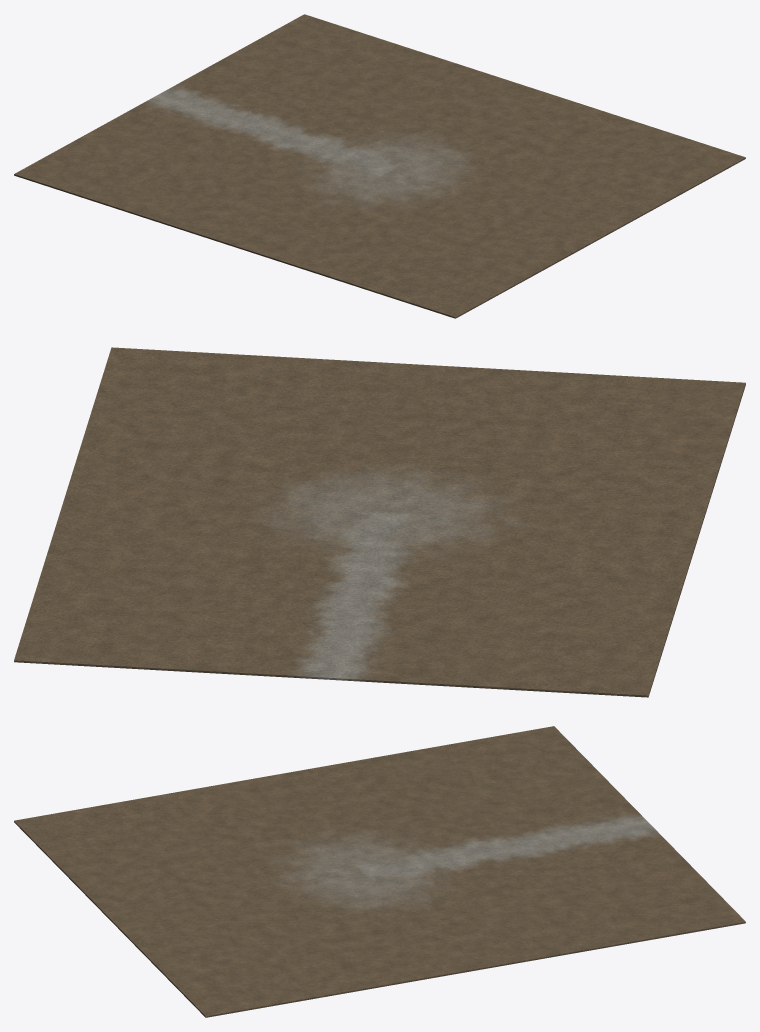
3 views of the same model, one above another, from view 1: azimuth 30°, elevation 25°; view 2: azimuth 150°, elevation 25°; view 3: azimuth 270°, elevation 25° (orthographic). The views are drawn at different scales.
Visible parts, largest first — view 1: Ground_0_0_0_110, Ground_0_-1_0_110, Ground_0_0_0_100, Ground_0_-1_0_100, Ground_-1_0_0_110_010, Ground_0_0_0_010_110, Ground_-1_0_0_010, Ground_-1_-1_0_010, Ground_-1_-1_0_000, Ground_-1_0_0_000, Ground_-1_-1_0_100_010, Ground_-1_-1_0_110_010 (+28 smaller); view 2: Ground_0_-1_0_000_100, Ground_-1_-1_0_100_000, Ground_0_-1_0_100, Ground_-1_-1_0_000, Ground_0_-1_0_110, Ground_0_0_0_110, Ground_0_0_0_100, Ground_0_-1_0_010_100, Ground_-1_0_0_110_000, Ground_-1_0_0_100_010, Ground_0_-1_0_000_110, Ground_-1_0_0_110_010 (+28 smaller); view 3: Ground_-1_0_0_010, Ground_-1_-1_0_010, Ground_-1_0_0_000, Ground_-1_-1_0_000, Ground_-1_0_0_110_010, Ground_0_0_0_010_110, Ground_0_0_0_110, Ground_0_-1_0_100, Ground_0_-1_0_110, Ground_0_0_0_100, Ground_-1_-1_0_110_000, Ground_0_-1_0_010_100 (+28 smaller).
Boxes of the visible parts, x1=… form: Ground_0_0_0_110: x1=345, y1=261, x2=491, y2=318; Ground_0_-1_0_110: x1=124, y1=190, x2=270, y2=246; Ground_0_0_0_100: x1=234, y1=226, x2=380, y2=282; Ground_0_-1_0_100: x1=14, y1=154, x2=159, y2=210; Ground_-1_0_0_110_010: x1=582, y1=159, x2=709, y2=218; Ground_0_0_0_010_110: x1=437, y1=239, x2=564, y2=298; Ground_-1_0_0_010: x1=599, y1=121, x2=745, y2=178; Ground_-1_-1_0_010: x1=379, y1=50, x2=524, y2=105; Ground_-1_-1_0_000: x1=268, y1=14, x2=413, y2=69; Ground_-1_0_0_000: x1=489, y1=86, x2=634, y2=141; Ground_-1_-1_0_100_010: x1=251, y1=52, x2=377, y2=109; Ground_-1_-1_0_110_010: x1=361, y1=88, x2=488, y2=145; Ground_0_-1_0_000_100: x1=410, y1=643, x2=581, y2=692; Ground_-1_-1_0_100_000: x1=93, y1=625, x2=263, y2=675; Ground_0_-1_0_100: x1=569, y1=613, x2=672, y2=697; Ground_-1_-1_0_000: x1=14, y1=582, x2=117, y2=666; Ground_0_-1_0_110: x1=593, y1=534, x2=697, y2=618; Ground_0_0_0_110: x1=642, y1=378, x2=745, y2=461; Ground_0_0_0_100: x1=618, y1=456, x2=721, y2=539; Ground_0_-1_0_010_100: x1=435, y1=565, x2=605, y2=612; Ground_-1_0_0_110_000: x1=166, y1=391, x2=336, y2=438; Ground_-1_0_0_100_010: x1=154, y1=430, x2=324, y2=477; Ground_0_-1_0_000_110: x1=423, y1=604, x2=593, y2=651; Ground_-1_0_0_110_010: x1=178, y1=352, x2=348, y2=399; Ground_-1_0_0_010: x1=181, y1=968, x2=340, y2=1017; Ground_-1_-1_0_010: x1=452, y1=921, x2=610, y2=970; Ground_-1_0_0_000: x1=317, y1=944, x2=475, y2=993; Ground_-1_-1_0_000: x1=587, y1=897, x2=745, y2=946; Ground_-1_0_0_110_010: x1=134, y1=931, x2=248, y2=992; Ground_0_0_0_010_110: x1=38, y1=833, x2=152, y2=895; Ground_0_0_0_110: x1=14, y1=797, x2=172, y2=846; Ground_0_-1_0_100: x1=419, y1=726, x2=577, y2=773; Ground_0_-1_0_110: x1=284, y1=750, x2=442, y2=797; Ground_0_0_0_100: x1=149, y1=773, x2=307, y2=821; Ground_-1_-1_0_110_000: x1=472, y1=872, x2=586, y2=932; Ground_0_-1_0_010_100: x1=376, y1=774, x2=490, y2=834.
Bounding box in the file's own units: 132 × 0.33 × 140.
40 materials, 40 textured.
